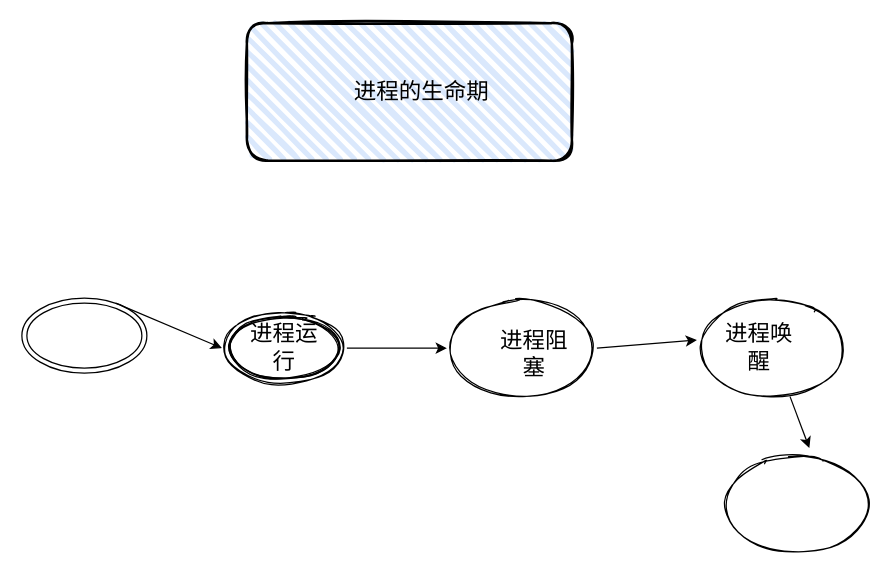
Image size: 894x576. Some labels were removed from this diagram. Each missing label, with the box of its shape:
进程创建: (21, 297, 147, 373)
进程结束: (721, 453, 872, 554)
